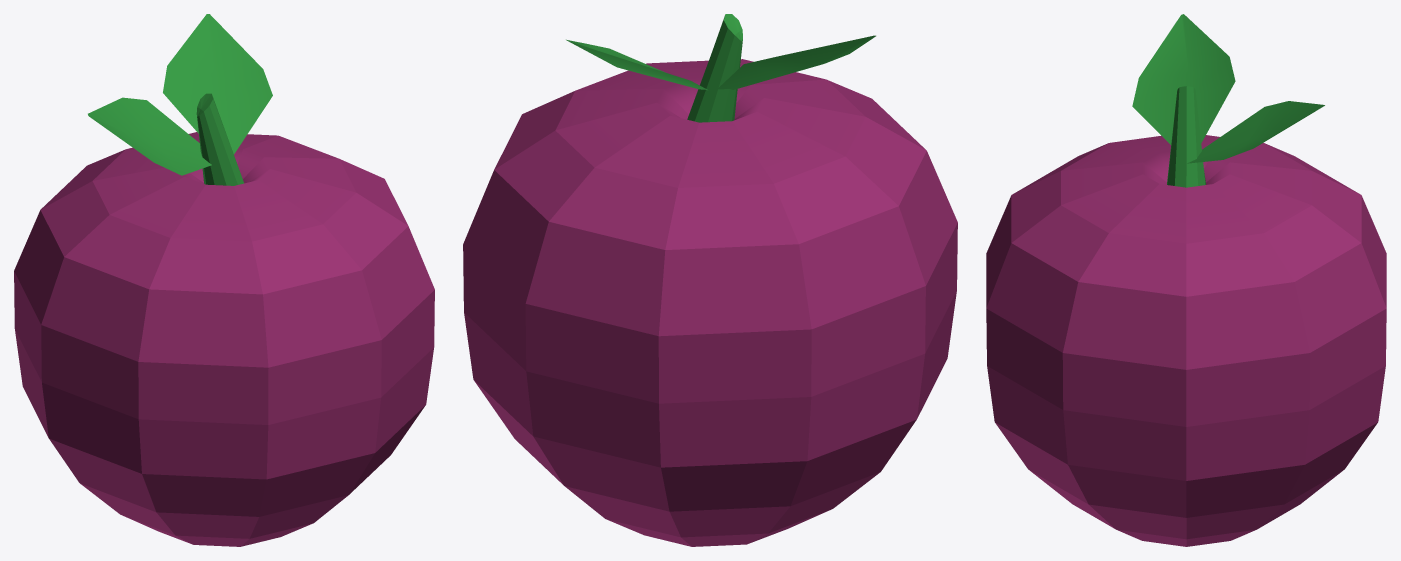
File: Pomme.FBX
3 renders of one model, left to right at view 1: azimuth 30°, elevation 25°; view 2: azimuth 150°, elevation 25°; view 3: azimuth 270°, elevation 25°, orthographic. The views are drawn at different scales.
Visible parts, largest first — view 1: pSphere1, pPlane2, pPlane1; view 2: pSphere1, pPlane1, pPlane2; view 3: pSphere1, pPlane1, pPlane2.
Boxes of the visible parts, bbox=[...] form: pSphere1: bbox=[14, 93, 434, 546]; pPlane2: bbox=[163, 14, 272, 154]; pPlane1: bbox=[88, 97, 211, 175]; pSphere1: bbox=[463, 14, 957, 546]; pPlane1: bbox=[717, 35, 875, 89]; pPlane2: bbox=[566, 39, 707, 90]; pSphere1: bbox=[986, 86, 1386, 546]; pPlane1: bbox=[1132, 14, 1235, 144]; pPlane2: bbox=[1187, 101, 1324, 163].
Bounding box in the file's own units: 2.89 × 3.3 × 2.75.
